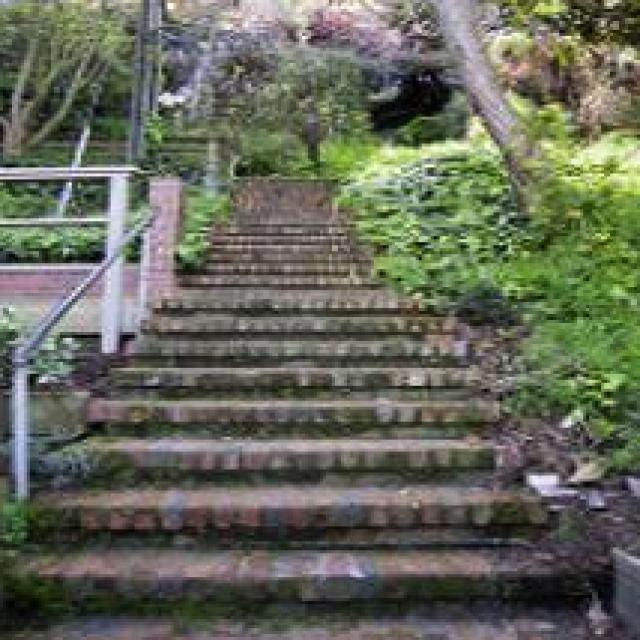upstair: (70, 267, 545, 590)
